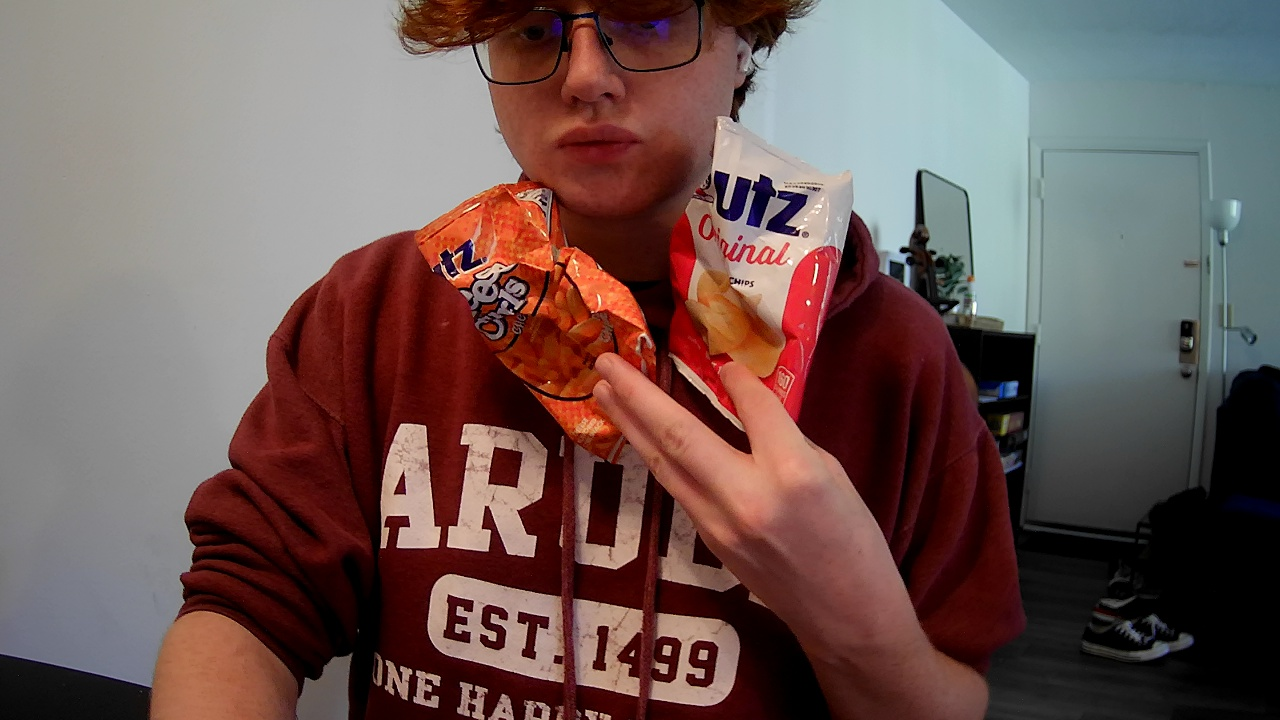trash: (402, 183, 708, 496), (662, 79, 867, 498)
